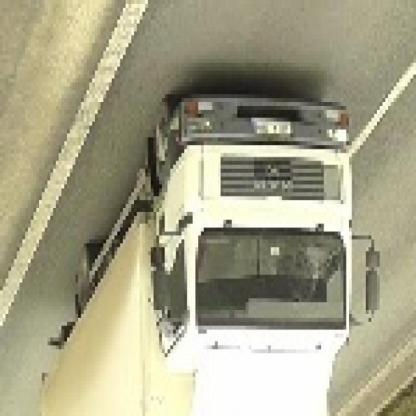truck: (43, 91, 383, 416)
